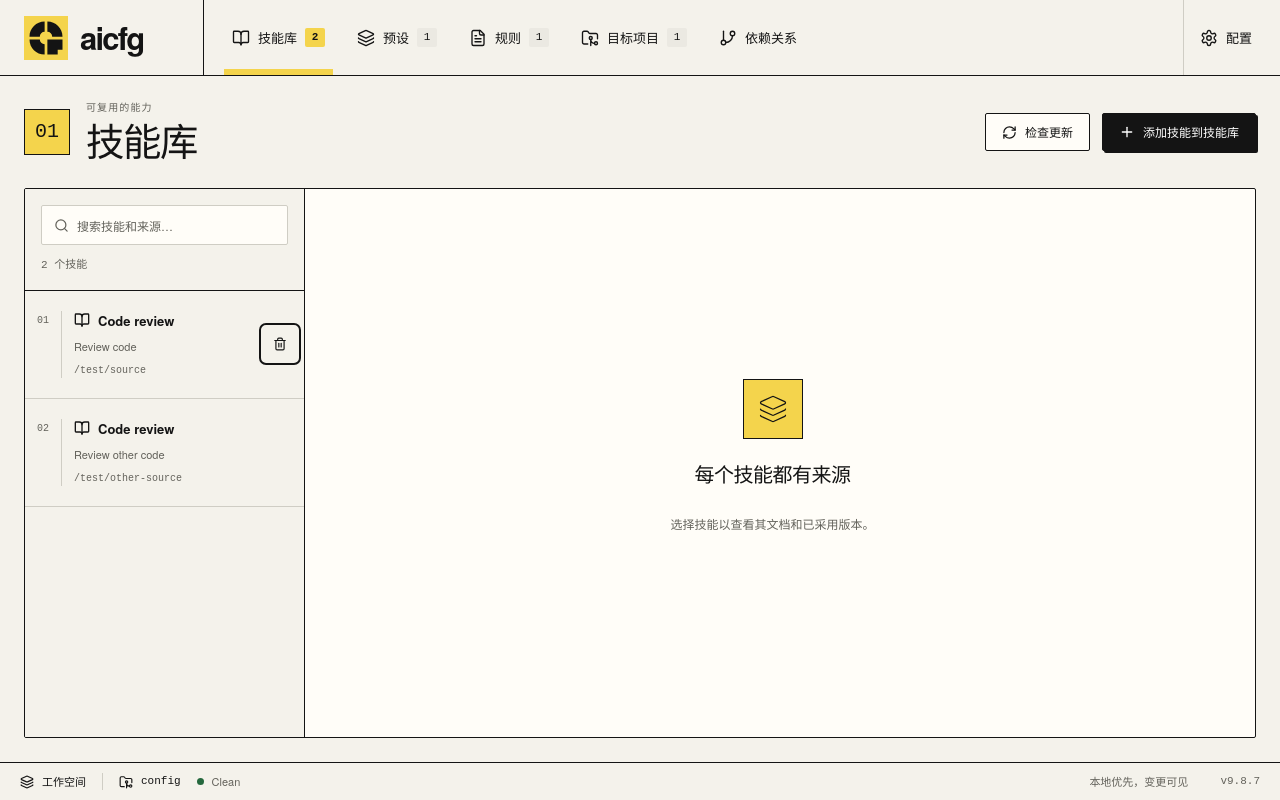
Test case: Localized deletion confirmations (zh) › translates Library skill confirmation and preserves the item name
Click the button named "删除 Code review".
click(280, 344)  # box [264,328,296,360]
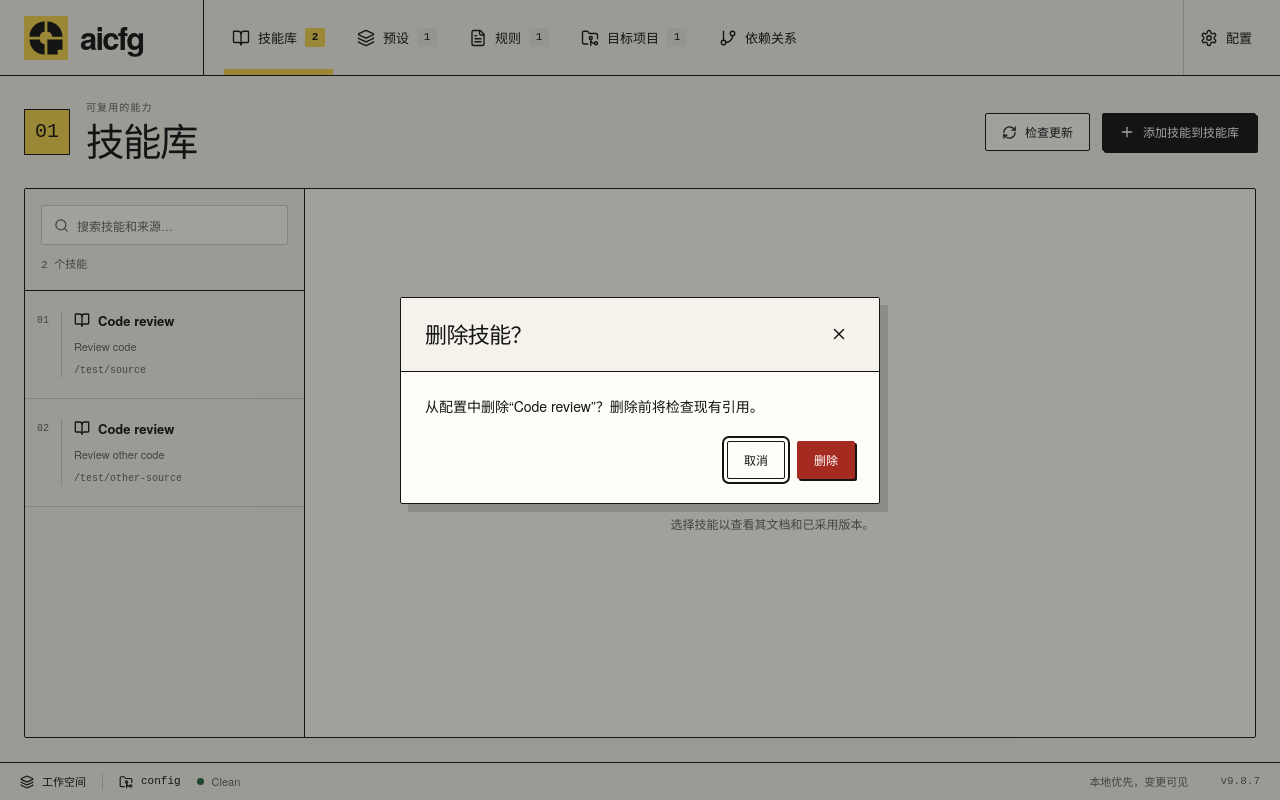
Check: the heading "删除技能？" is shown, box [425,318,532,350]
Check: the text "从配置中删除“Code review”？删除前将检查现有引用。" is shown, box [425,396,764,416]
Click the button "取消".
click(756, 460)  # box [727,440,785,478]
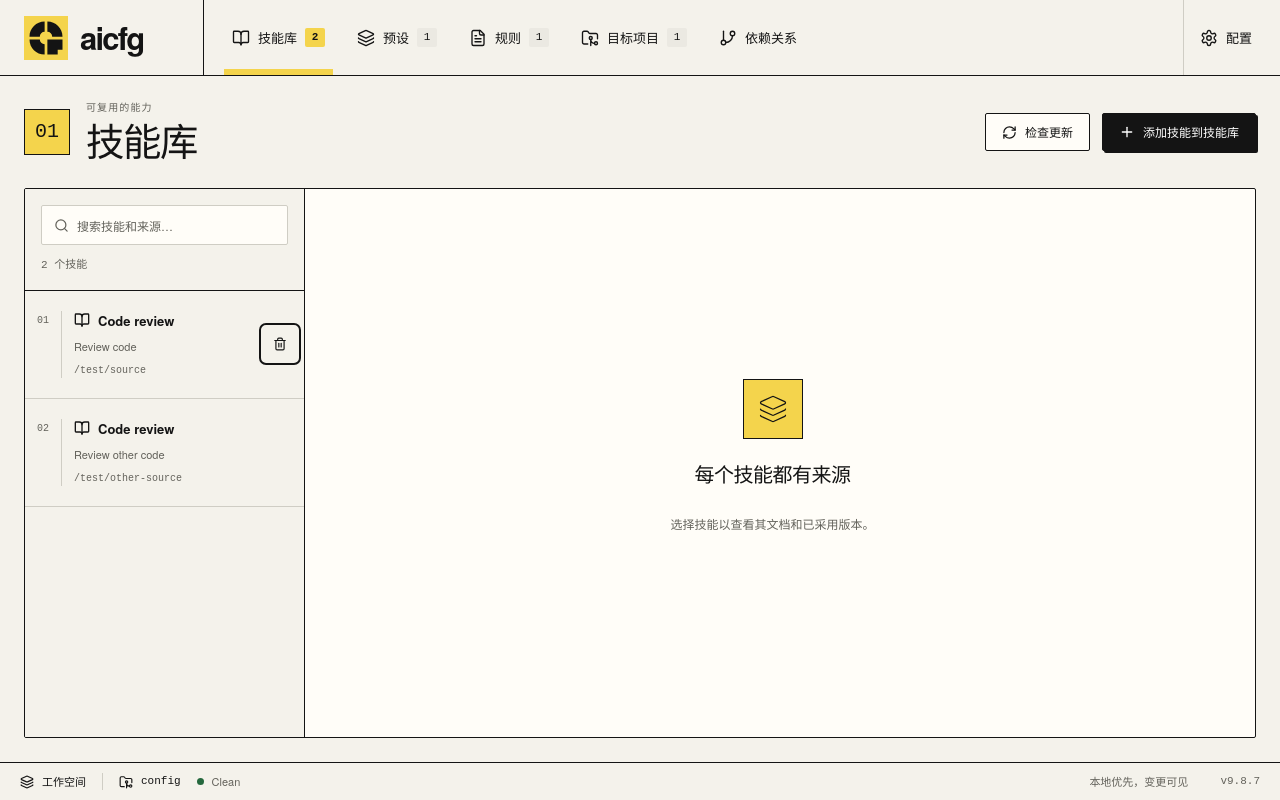
Check: the dialog is gone
